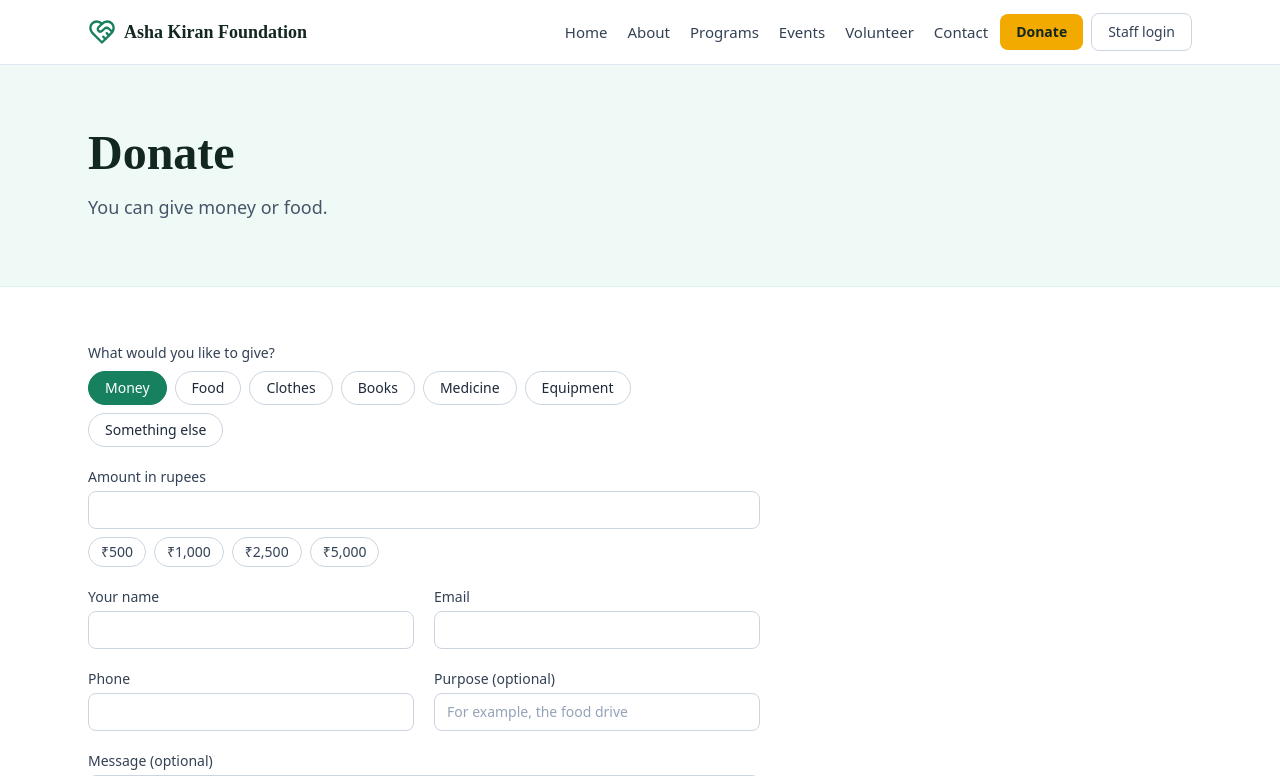
Test: donation inquiry form › asks for an amount for money gifts
Type "Ravi" into the field labelled "Your name" at (251, 630), box [88,611,414,649]
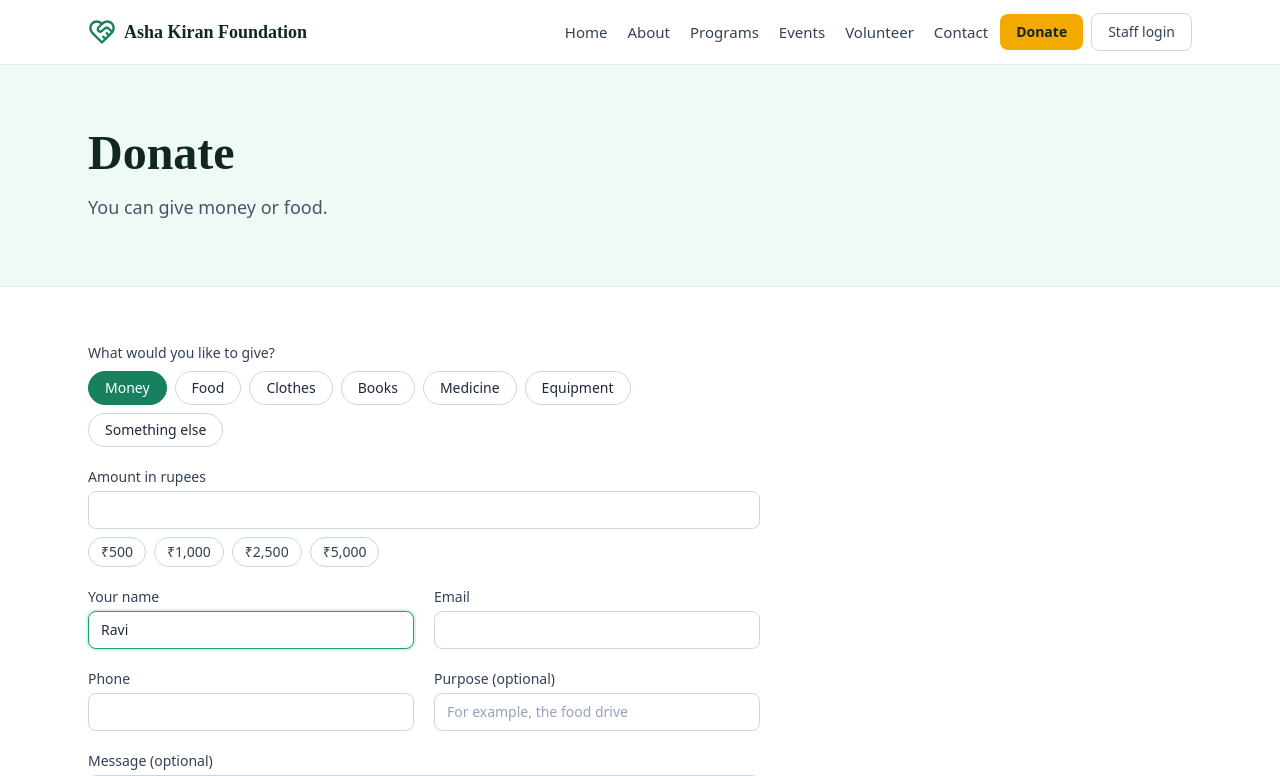
Type "r@x.com" into the field labelled "Email" at (597, 630), box [434,611,760,649]
(page scrolled)
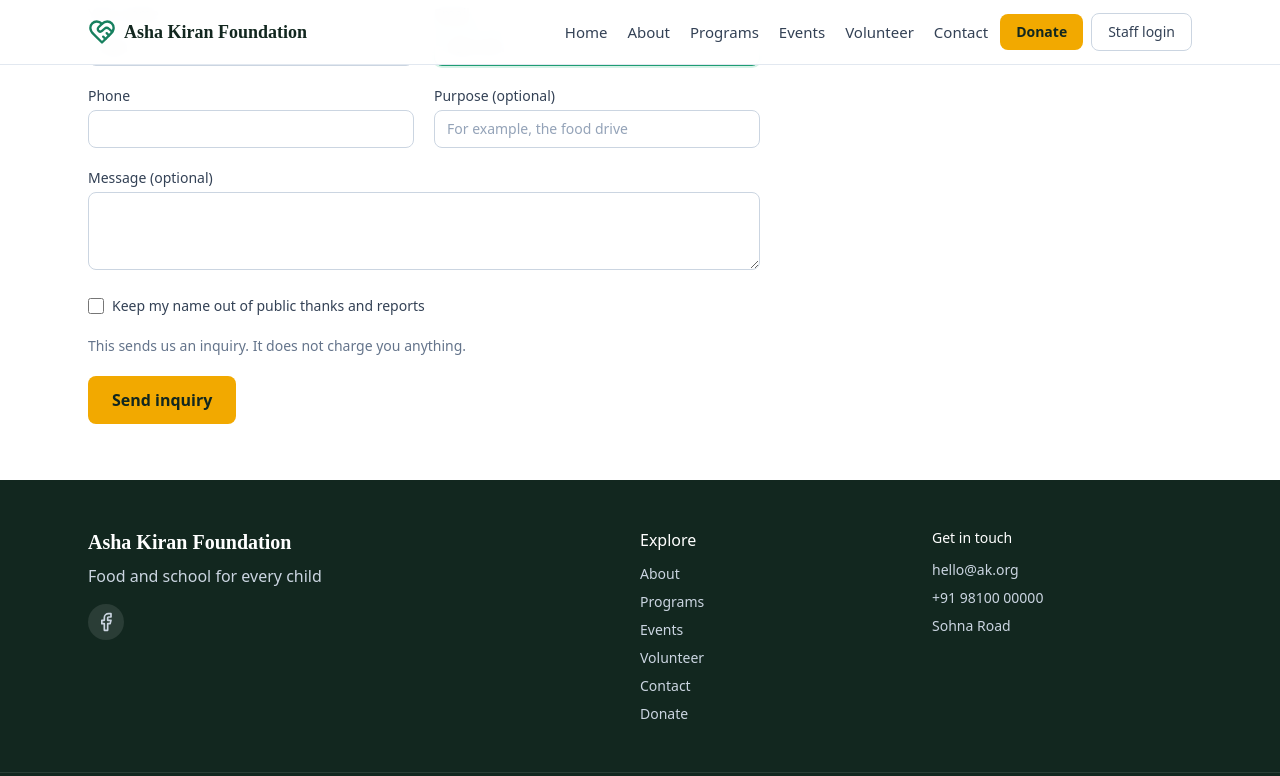
Click the button "Send inquiry" at (162, 400), box [88,376,236,424]
(page scrolled)
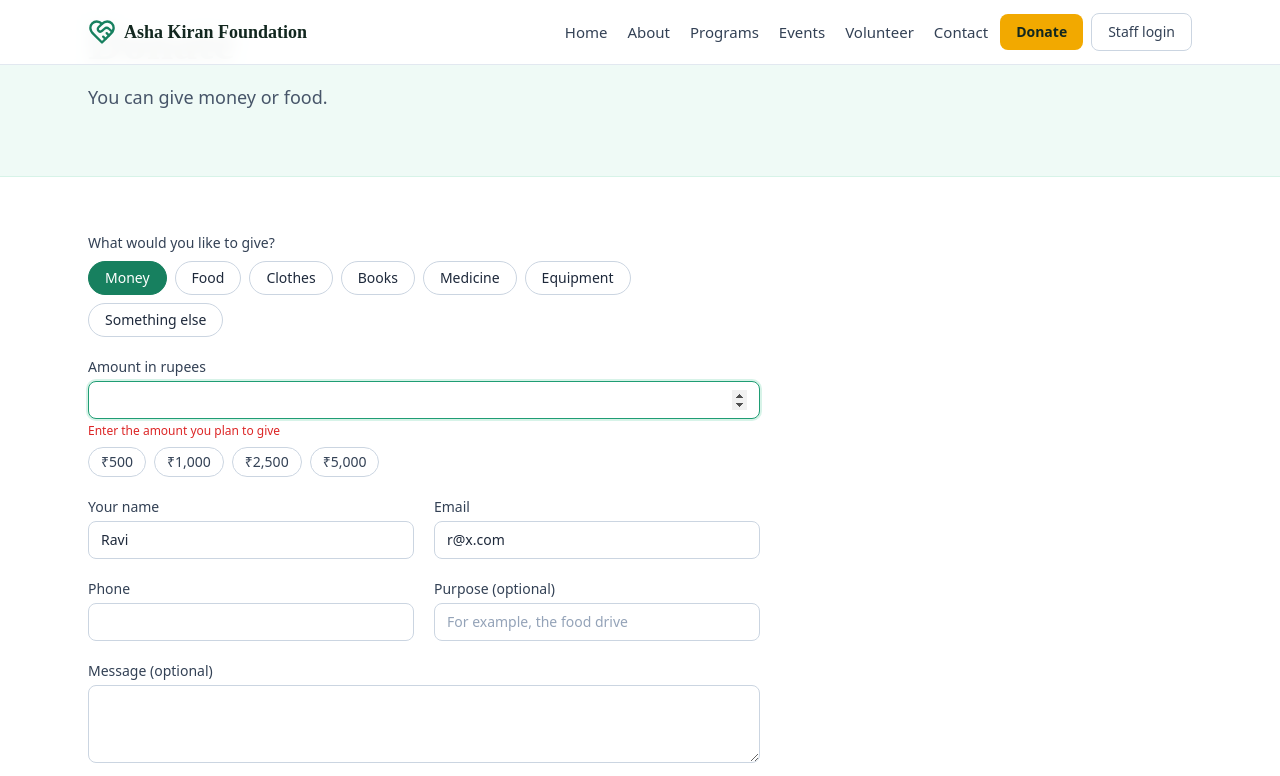
Now the text "Enter the amount you plan to give" is shown, box [88,422,280,439]
